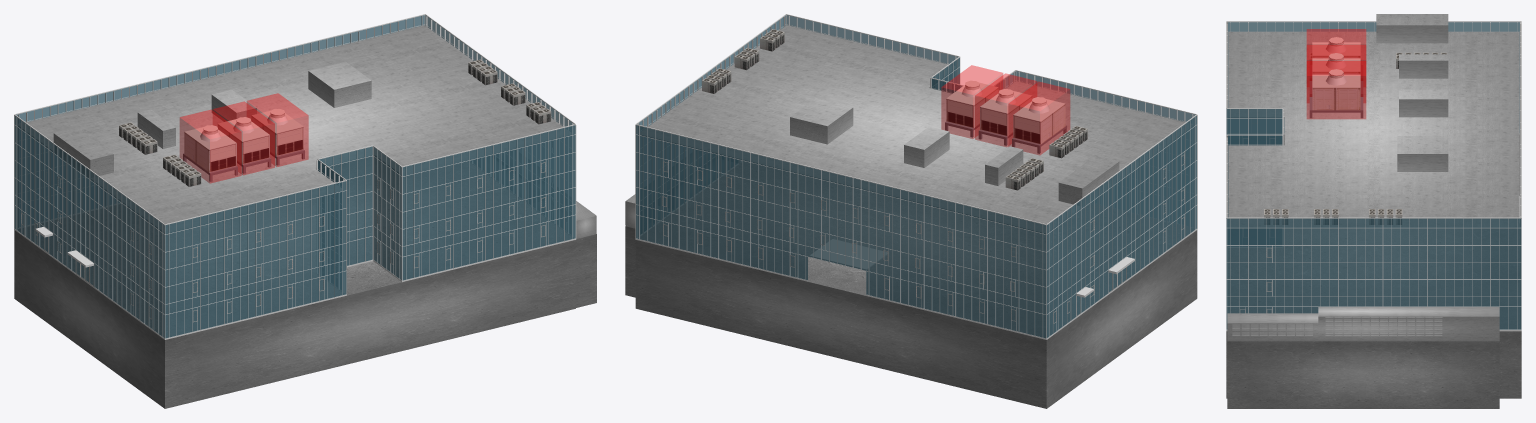
3 views of the same model, side by side, from view 1: azimuth 30°, elevation 25°; view 2: azimuth 150°, elevation 25°; view 3: azimuth 270°, elevation 25° (orthographic).
Parts seen in each view (by area): view 1: Line2370, Line028, Line031, equipment-QM-OUT-001, Rectangle2151, equipment-QM-OUT-003, equipment-QM-OUT-002, Rectangle2154, QM-out-01, Line038, QM-out-03, QM-out-02 (+9 smaller); view 2: Line2370, Line028, Line031, equipment-QM-OUT-001, Rectangle2151, equipment-QM-OUT-003, equipment-QM-OUT-002, Rectangle2154, QM-out-01, Line038, QM-out-03, QM-out-02 (+10 smaller); view 3: Line031, Line2370, Line028, Rectangle2151, equipment-QM-OUT-003, Rectangle2251, Rectangle2154, Box019, Box015, QM-out-03, equipment-QM-OUT-002, equipment-QM-OUT-001 (+12 smaller).
Part boxes in pixels (<box>): Line2370: <box>14,157,596,408</box>; Line028: <box>14,15,575,338</box>; Line031: <box>18,25,571,233</box>; equipment-QM-OUT-001: <box>180,110,241,183</box>; Rectangle2151: <box>53,72,371,177</box>; equipment-QM-OUT-003: <box>247,93,308,166</box>; equipment-QM-OUT-002: <box>213,101,274,175</box>; Rectangle2154: <box>53,62,371,160</box>; QM-out-01: <box>183,125,237,181</box>; Line038: <box>14,14,575,225</box>; QM-out-03: <box>251,109,304,165</box>; QM-out-02: <box>218,117,271,173</box>; Line2370: <box>625,161,1197,408</box>; Line028: <box>636,15,1196,338</box>; Line031: <box>638,25,1193,233</box>; equipment-QM-OUT-001: <box>1008,81,1069,155</box>; Rectangle2151: <box>790,109,1119,205</box>; equipment-QM-OUT-003: <box>941,65,1002,138</box>; equipment-QM-OUT-002: <box>975,73,1036,146</box>; Rectangle2154: <box>790,98,1119,189</box>; QM-out-01: <box>1012,97,1066,153</box>; Line038: <box>635,14,1197,225</box>; QM-out-03: <box>945,80,998,137</box>; QM-out-02: <box>978,89,1031,145</box>; Line031: <box>1228,32,1519,227</box>; Line2370: <box>1226,134,1521,408</box>; Line028: <box>1226,22,1521,329</box>; Rectangle2151: <box>1376,26,1448,171</box>; equipment-QM-OUT-003: <box>1307,61,1365,118</box>; Rectangle2251: <box>1227,306,1499,323</box>; Rectangle2154: <box>1376,14,1448,154</box>; Box019: <box>1227,317,1499,340</box>; Box015: <box>1325,317,1442,336</box>; QM-out-03: <box>1309,69,1363,118</box>; equipment-QM-OUT-002: <box>1307,45,1365,102</box>; equipment-QM-OUT-001: <box>1307,29,1365,60</box>.
Bounding box in the file's own units: 66.94 × 31.71 × 39.68.
12 materials, 10 textured.
